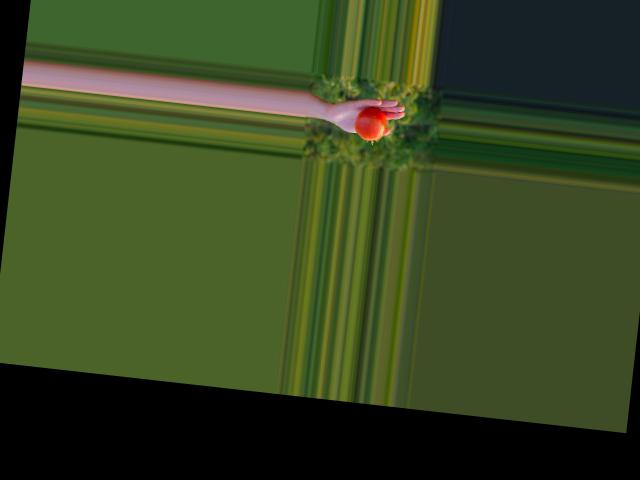tomato: (354, 104, 388, 141)
